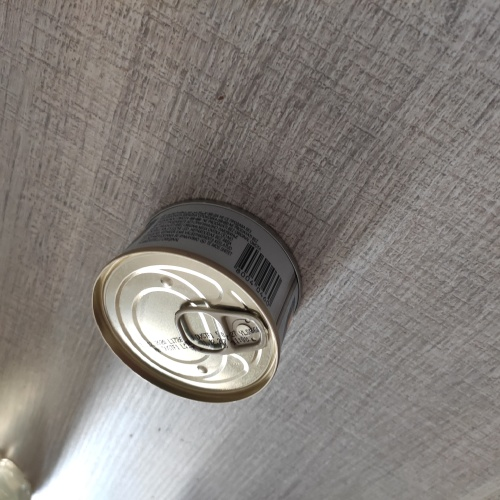tonno: (86, 182, 314, 409)
